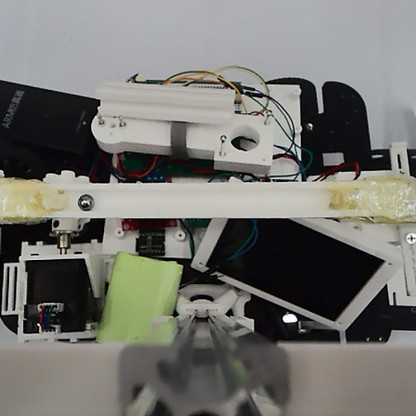ironball: (74, 190, 95, 210)
